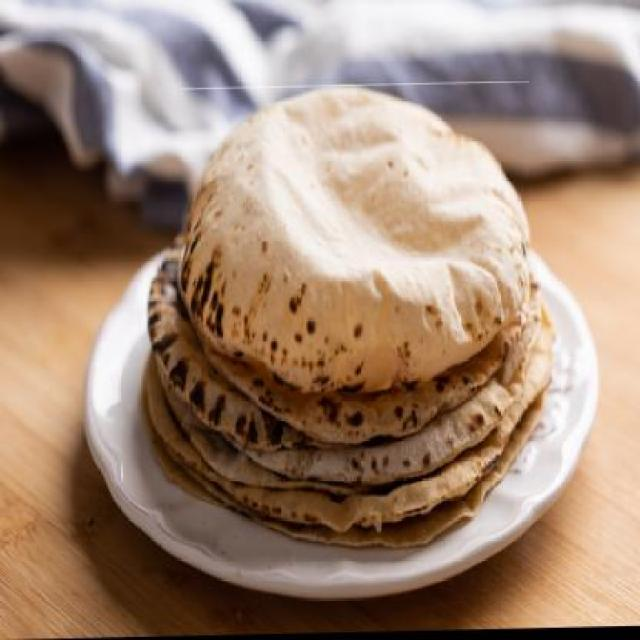chapati: (180, 83, 531, 395)
